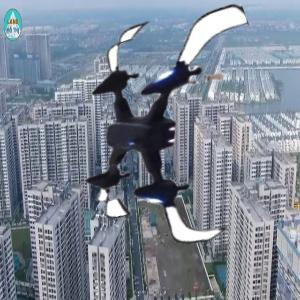drone: (47, 18, 284, 255)
